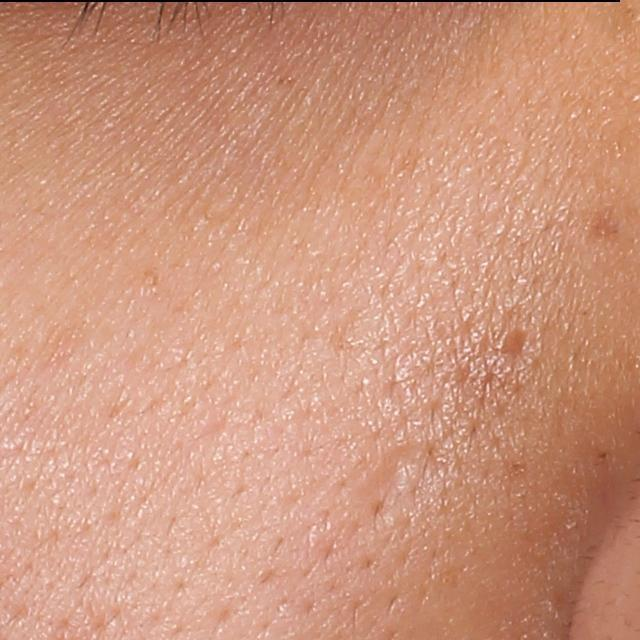atrophic_scar: (361, 438, 426, 539), (494, 323, 535, 363)
